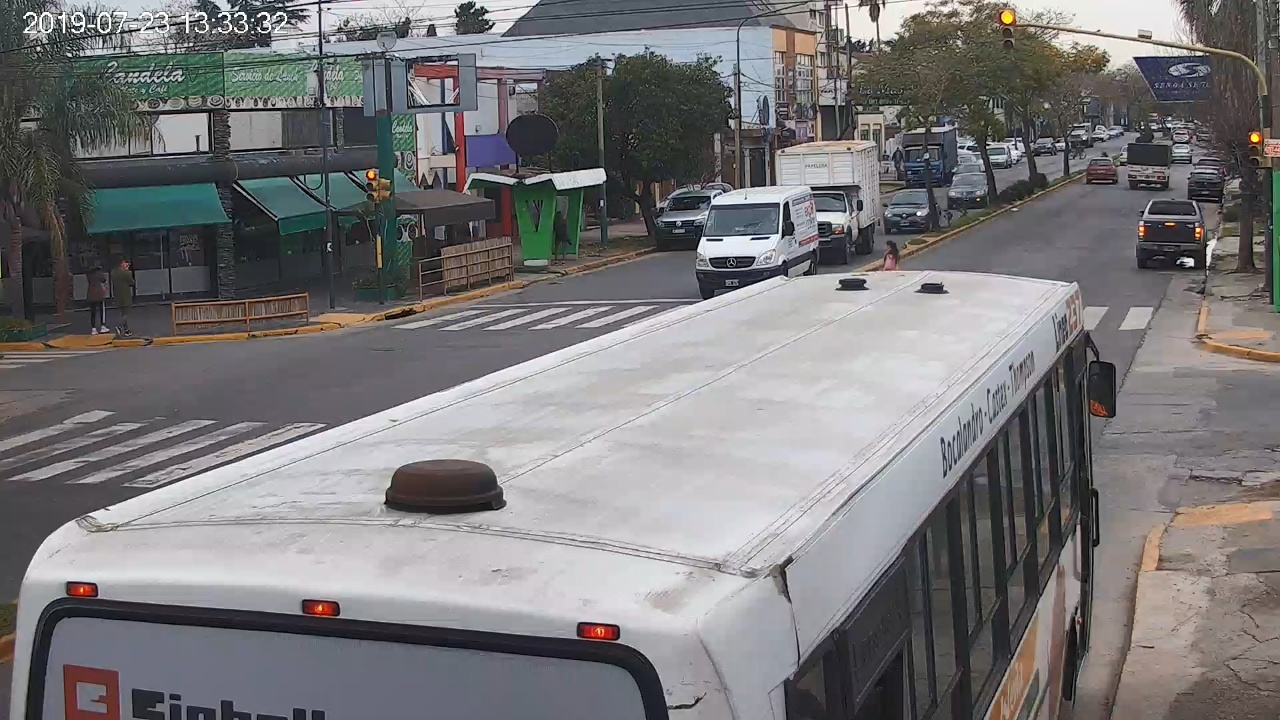bus: (6, 272, 1119, 720)
traffic light: (1000, 9, 1015, 48), (1248, 132, 1262, 168)
